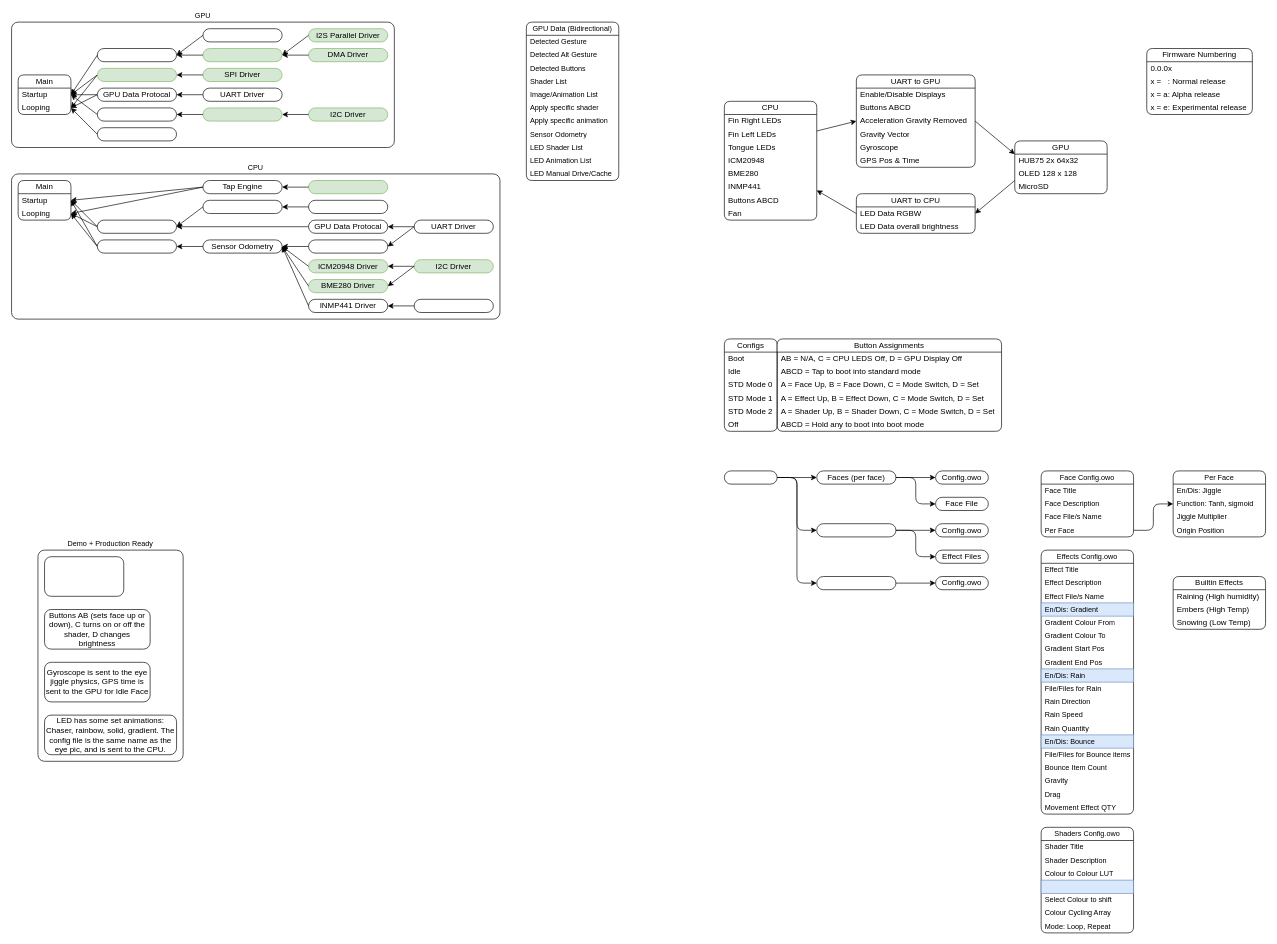
This 1277x944 diagram has some shape labels left out. Each missing label, with the centre of its shape:
"Digital Pin Driver" belongs at point 348,187.
"Display Config Select" belongs at point 137,55.
"Effects (per effect)" belongs at point 856,530.
"En/Dis: Colour Shift" belongs at point 1087,886.
"Folder of faces (Simple), contains just single eye pics" belongs at point 84,576.
"Gesture Engine" belongs at point 137,246.
"HUB75 Driver" belongs at point 242,55.
"I2S Driver" belongs at point 453,306.
"LED Anim Interpreter" belongs at point 137,226.
"LED Driver" belongs at point 242,207.
"Menu Tree Navigator" belongs at point 137,134.
"Neo 8M Driver" belongs at point 348,246.
"OLED Driver" belongs at point 242,114.
"SD Card /" belongs at point 750,477.
"SD Card Driver" belongs at point 137,75.
"Shaders" belongs at point 242,35.
"Shaders (per shader)" belongs at point 856,583.
"Single Wire Driver" belongs at point 348,207.
"UI Elements" belongs at point 137,114.
